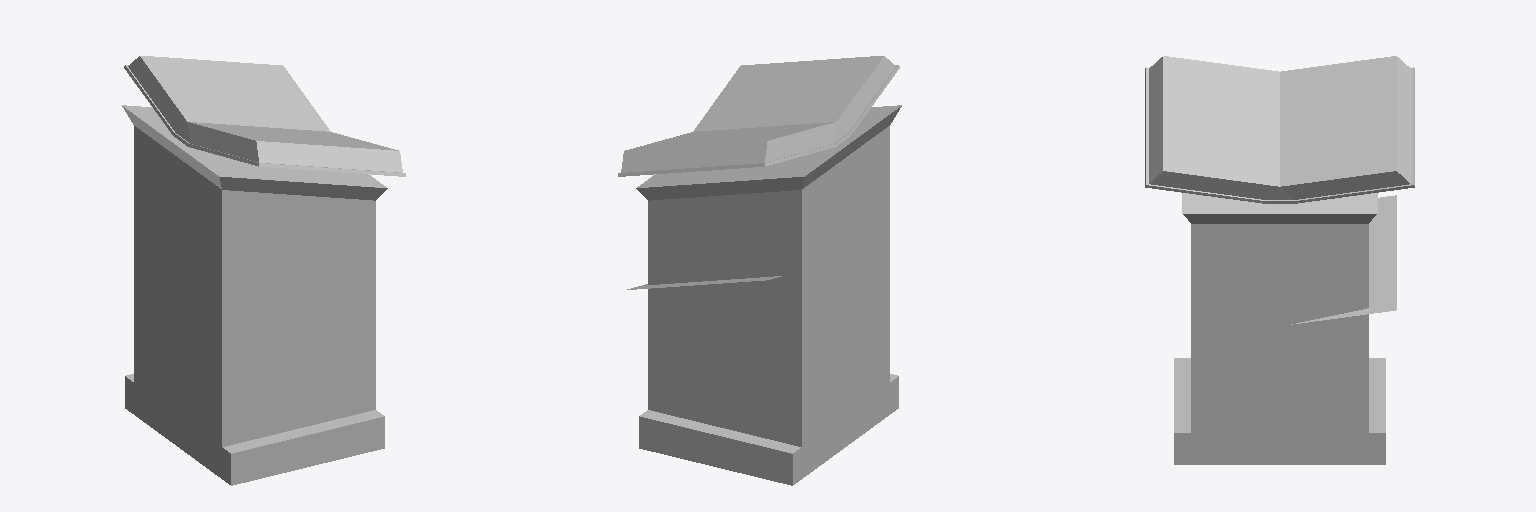
The model's file is guide.obj.
The picture shows the model from 3 angles: view 1: azimuth 30°, elevation 25°; view 2: azimuth 150°, elevation 25°; view 3: azimuth 270°, elevation 25°; orthographic projection.
Parts seen in each view (by area): view 1: Lectern, Book; view 2: Lectern, Book; view 3: Lectern, Book, Page.
Boxes of the visible parts, box(x1,y1,x2,y2) form: Lectern: box(122, 105, 387, 485); Book: box(124, 56, 405, 176); Lectern: box(636, 105, 901, 485); Book: box(618, 56, 899, 176); Lectern: box(1174, 193, 1385, 464); Book: box(1145, 56, 1414, 203); Page: box(1291, 195, 1396, 324).
Bounding box in the file's own units: 1.12 × 2.14 × 1.53.